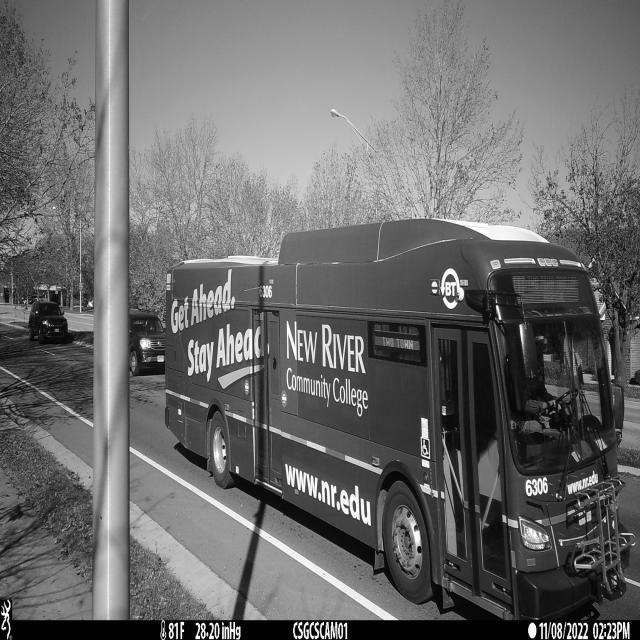Bus: (164, 220, 631, 623)
